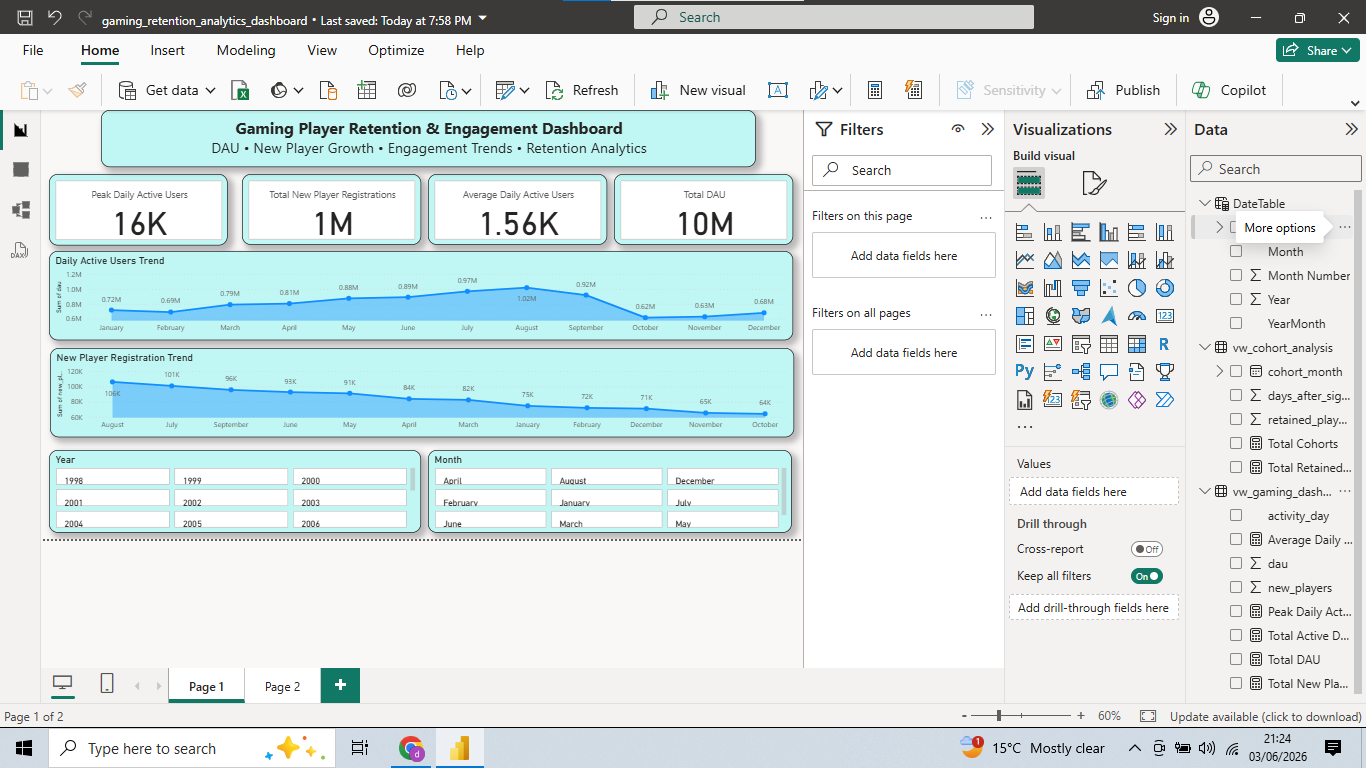

The page's visual inventory and layout, read from the dashboard file:
{"tool":"powerbi","page":{"name":"Page 1","canvas":[1280,720],"ordinal":0},"visuals":[{"type":"cardVisual","fields":{"Data":["vw_gaming_dashboard.Peak DAU"]},"box":[13.4,107.5,300,120],"z":0},{"type":"cardVisual","fields":{"Data":["vw_gaming_dashboard.Total New Players"]},"box":[337.6,107.5,300.7,119.3],"z":1000},{"type":"cardVisual","fields":{"Data":["vw_gaming_dashboard.Average DAU"]},"box":[650.1,107.5,300.7,119.3],"z":2000},{"type":"cardVisual","fields":{"Data":["vw_gaming_dashboard.Total DAU"]},"box":[962.5,107.5,300.7,119.3],"z":3000},{"type":"lineChart","title":"Daily Active Users Trend","fields":{"Y":["Sum(vw_gaming_dashboard.dau)"],"Category":["DateTable.Date.Variation.Date Hierarchy.Month"]},"box":[13.4,236.9,1250,150],"z":4000},{"type":"lineChart","title":"New Player Registration Trend","fields":{"Category":["DateTable.Month"],"Y":["Sum(vw_gaming_dashboard.new_players)"]},"box":[15,400,1250,150],"z":5000},{"type":"advancedSlicerVisual","fields":{"Values":["DateTable.Year"]},"box":[13.4,571.1,624.9,139.4],"z":6000},{"type":"advancedSlicerVisual","fields":{"Values":["DateTable.Month"]},"box":[650.1,571.1,611.4,139.4],"z":7000},{"type":"textbox","box":[100.8,0,1100,95.7],"z":8000}]}

Visuals, with their boxes on the page's 1280x720 design canvas (x1, y1, x2, y2). These are canvas units, not pixel positions in the 1366x768 screenshot, which may show the page scaled, cropped or inside an application window:
cardVisual - vw_gaming_dashboard.Peak DAU: <box>13,108,313,228</box>
cardVisual - vw_gaming_dashboard.Total New Players: <box>338,108,638,227</box>
cardVisual - vw_gaming_dashboard.Average DAU: <box>650,108,951,227</box>
cardVisual - vw_gaming_dashboard.Total DAU: <box>962,108,1263,227</box>
"Daily Active Users Trend" lineChart: <box>13,237,1263,387</box>
"New Player Registration Trend" lineChart: <box>15,400,1265,550</box>
advancedSlicerVisual - DateTable.Year: <box>13,571,638,710</box>
advancedSlicerVisual - DateTable.Month: <box>650,571,1262,710</box>
textbox: <box>101,0,1201,96</box>
